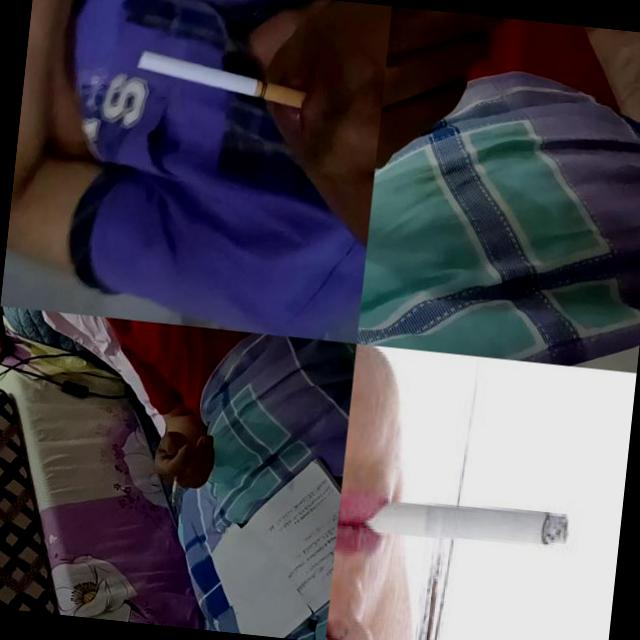cigarette: (363, 492, 570, 552), (130, 48, 308, 109), (170, 470, 179, 506)
